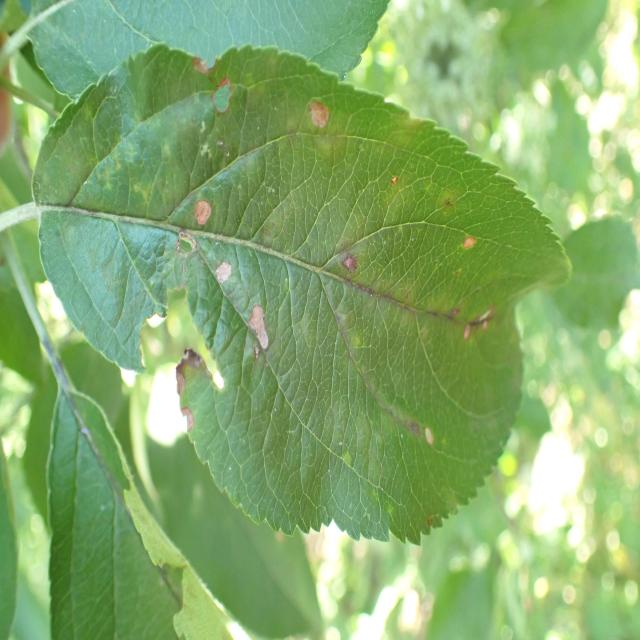frog-eye-leaf-spot: (34, 42, 574, 546)
